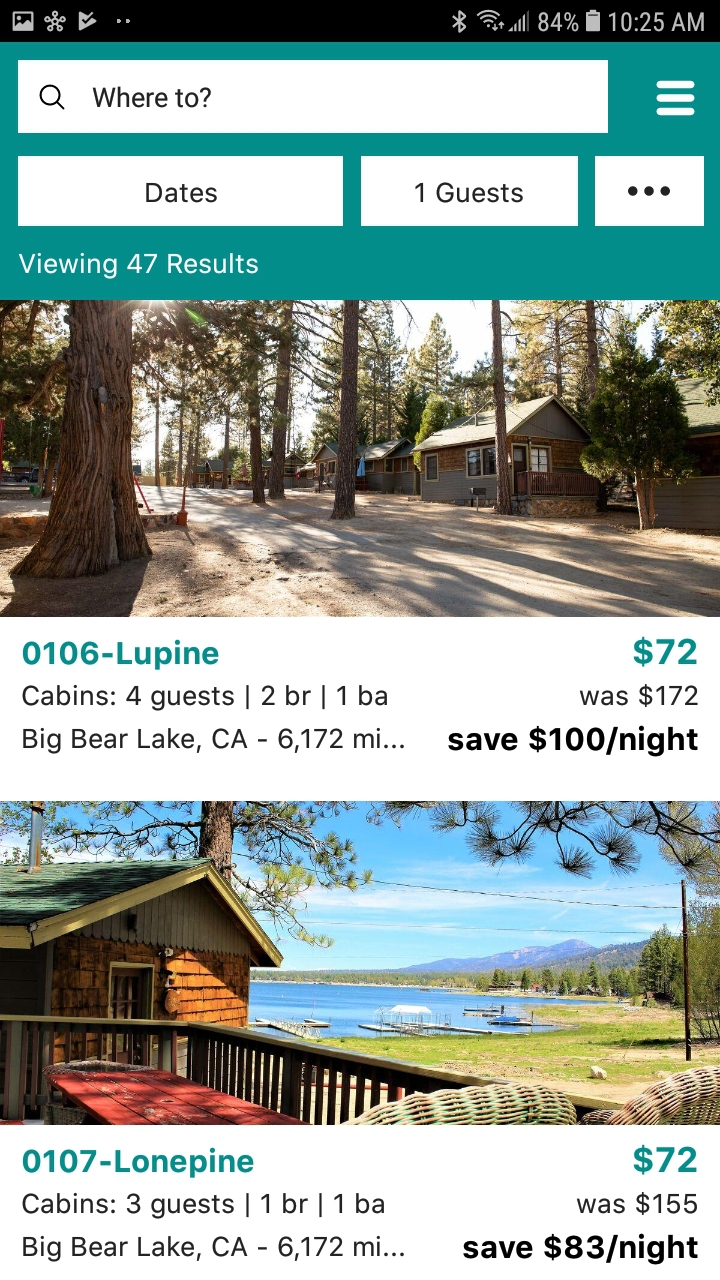EditText: (19, 61, 608, 134)
Icon: (655, 80, 695, 117), (40, 85, 66, 111)
Image: (1, 801, 720, 1126), (1, 300, 720, 617)
Text: (24, 1192, 405, 1262), (24, 685, 405, 754), (448, 725, 698, 757), (464, 1233, 699, 1265), (24, 1148, 254, 1178), (19, 253, 258, 280), (24, 639, 219, 671), (577, 1191, 698, 1215), (580, 684, 699, 708), (93, 87, 212, 109), (633, 636, 697, 668), (633, 1144, 697, 1175)
TextButton: (19, 157, 344, 227), (361, 157, 578, 227), (595, 157, 704, 227)
UpperTaskBar: (1, 1, 720, 43)
